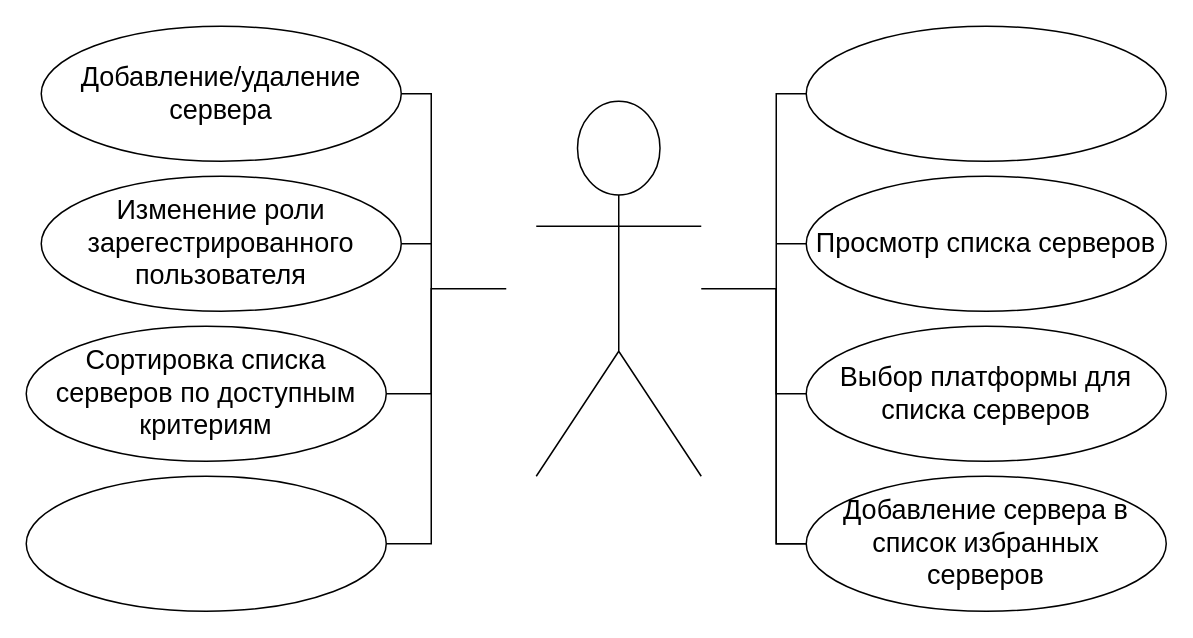
This 1193x638 diagram has some shape labels left out. The shapes that lost their labels are listed below. From the top down, each one's box as (x1, y1, x2, y2) in pixels, then its label:
(805, 25, 1166, 161): Просмотр информации о хостинге и списка игроково сервера
(535, 100, 701, 476): Администратор
(25, 475, 386, 611): Изменение информации о сервере
